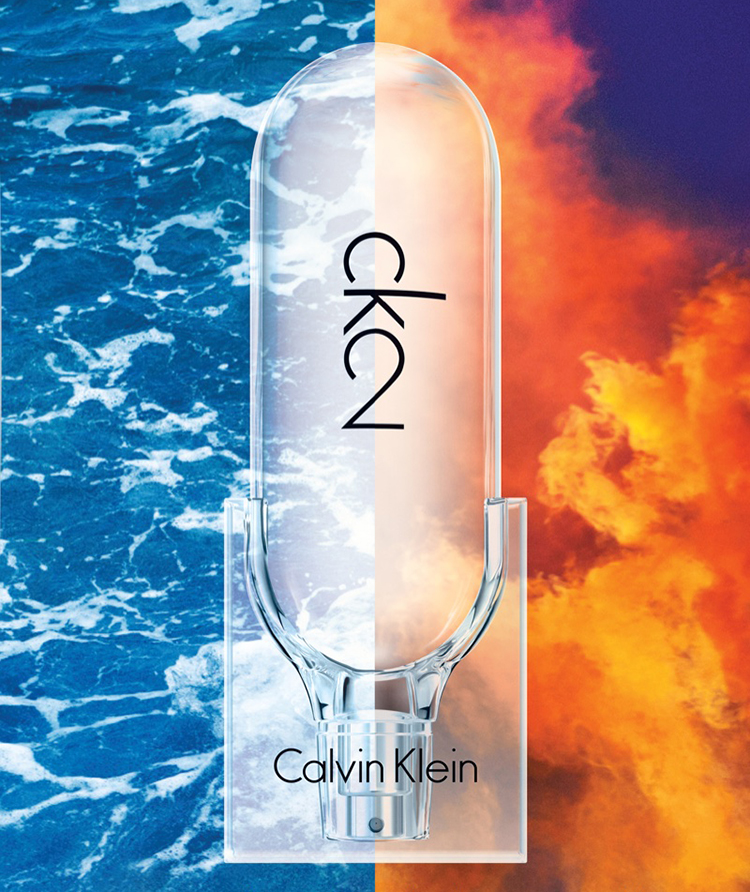Calvin Klein: (319, 221, 453, 338), (270, 729, 487, 792)
